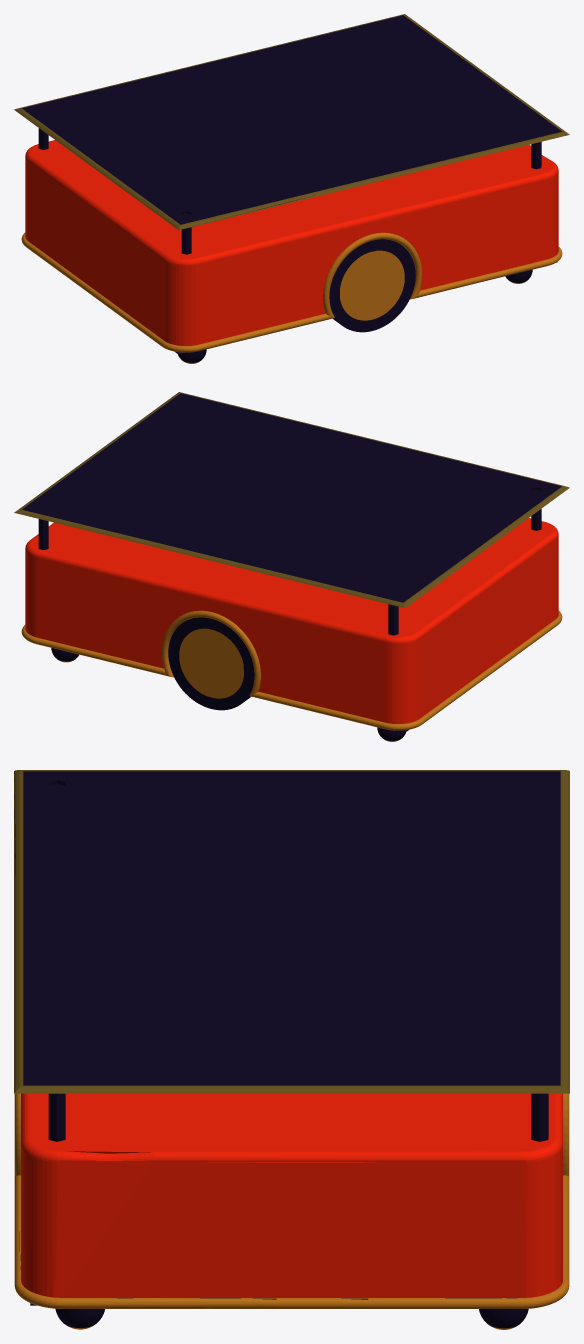
The model's file is chassy.dae.
The picture shows the model from 3 angles, top to bottom: view 1: azimuth 30°, elevation 25°; view 2: azimuth 150°, elevation 25°; view 3: azimuth 270°, elevation 25°; orthographic projection. The views are drawn at different scales.
Parts seen in each view (by area): view 1: bcr_bot_logo; view 2: bcr_bot_logo; view 3: bcr_bot_logo.
Boxes of the visible parts, x1,y1,x2,y2 form: bcr_bot_logo: (14, 14, 569, 363); bcr_bot_logo: (14, 392, 569, 741); bcr_bot_logo: (14, 770, 569, 1329).
Bounding box in the file's own units: 0.915 × 0.6563 × 0.345.
